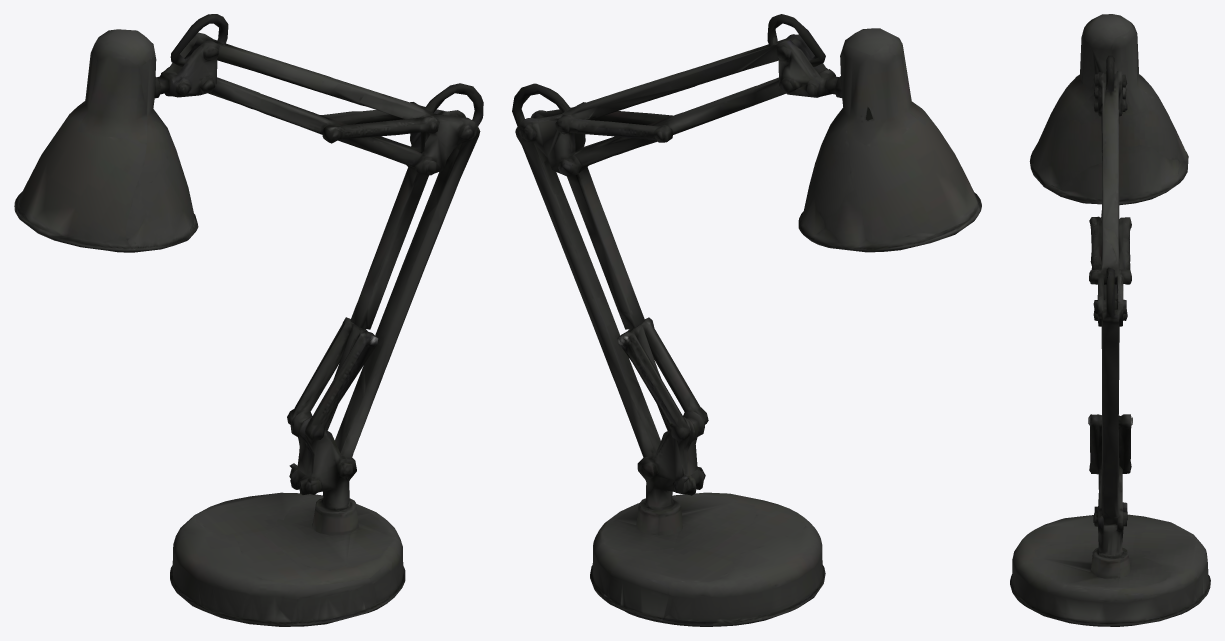
File: lamp-task-lite.glb
The picture shows the model from 3 angles, left to right: view 1: azimuth 30°, elevation 25°; view 2: azimuth 150°, elevation 25°; view 3: azimuth 270°, elevation 25°; orthographic projection. The views are drawn at different scales.
Visible parts, largest first — view 1: node_0; view 2: node_0; view 3: node_0.
Part boxes in pixels (x1=…): node_0: x1=14, y1=14, x2=483, y2=626; node_0: x1=512, y1=14, x2=981, y2=626; node_0: x1=1010, y1=14, x2=1210, y2=626.
Size of the model in its own units: 0.8692 by 1.07 by 0.3892.
1 material, 1 textured.
